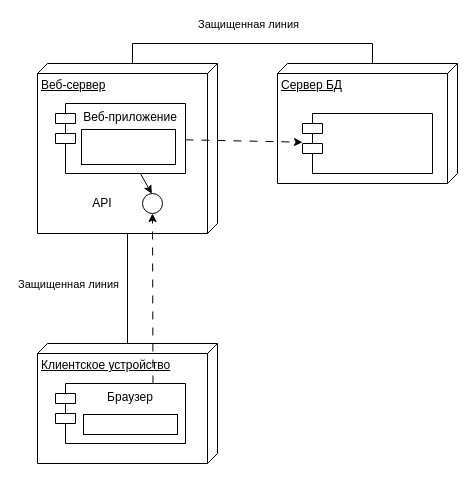
Some shapes in this 475 by 481 pixel diagram are drawn without their labels. The centre of each missing label's shape, as x and y in pixels:
База данных: [367,143]
Ввод данных: [130,424]
Запросы к серверу: [128,146]
